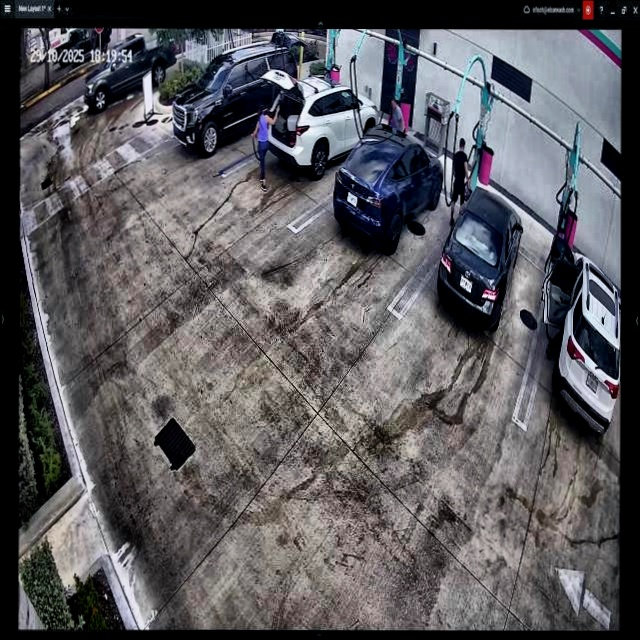Car: (336, 123, 444, 250), (439, 187, 523, 332), (262, 71, 379, 175)
